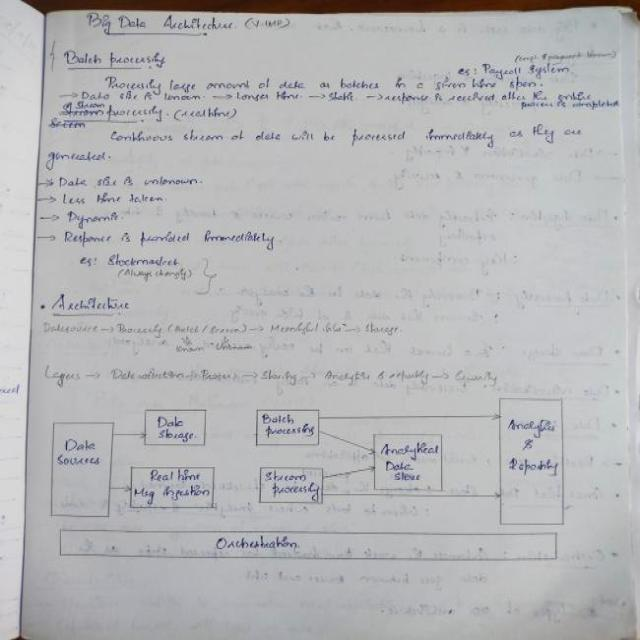Figure Detection - v3 Dataset Version2: (37, 388, 585, 578)
